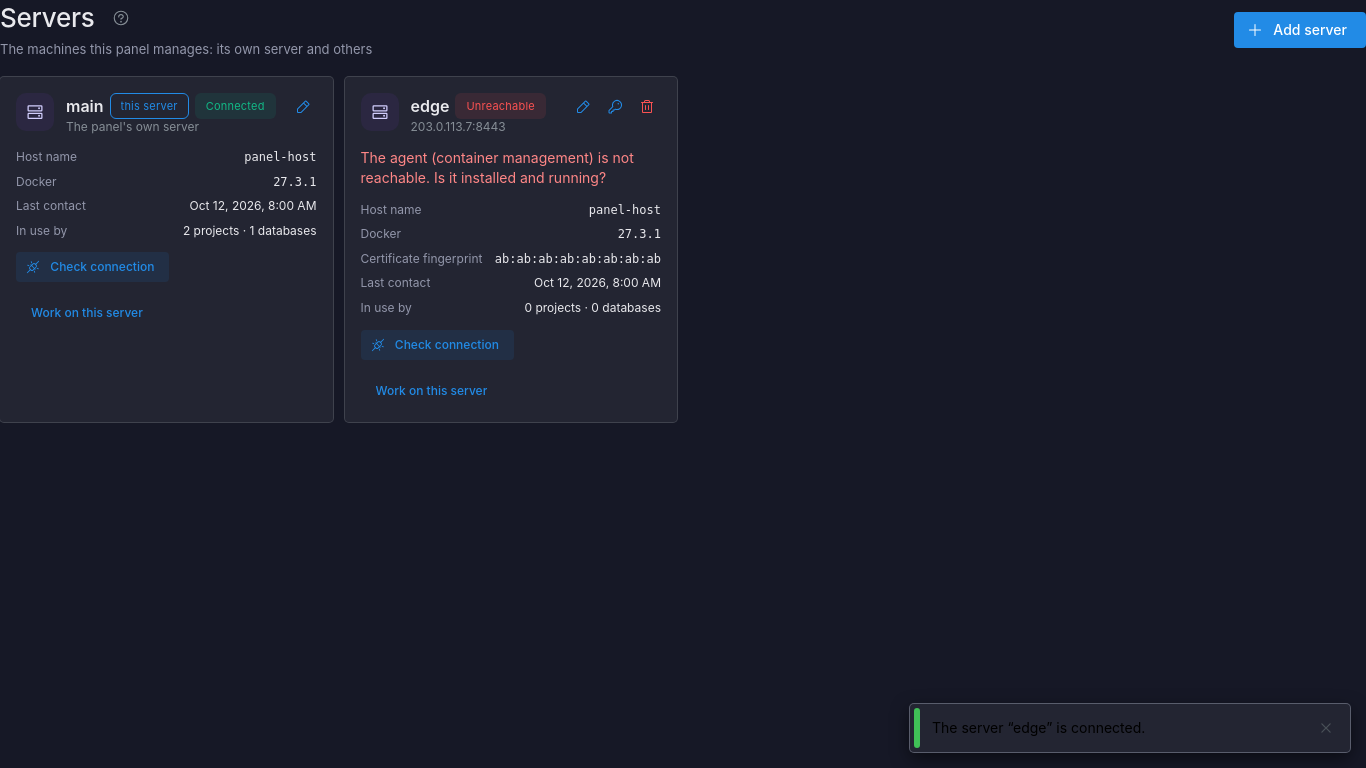
Test case: ServersPage › explains a refused delete
Click the button named "Delete".
click(647, 107)  # box left=633, top=93, right=661, bottom=121
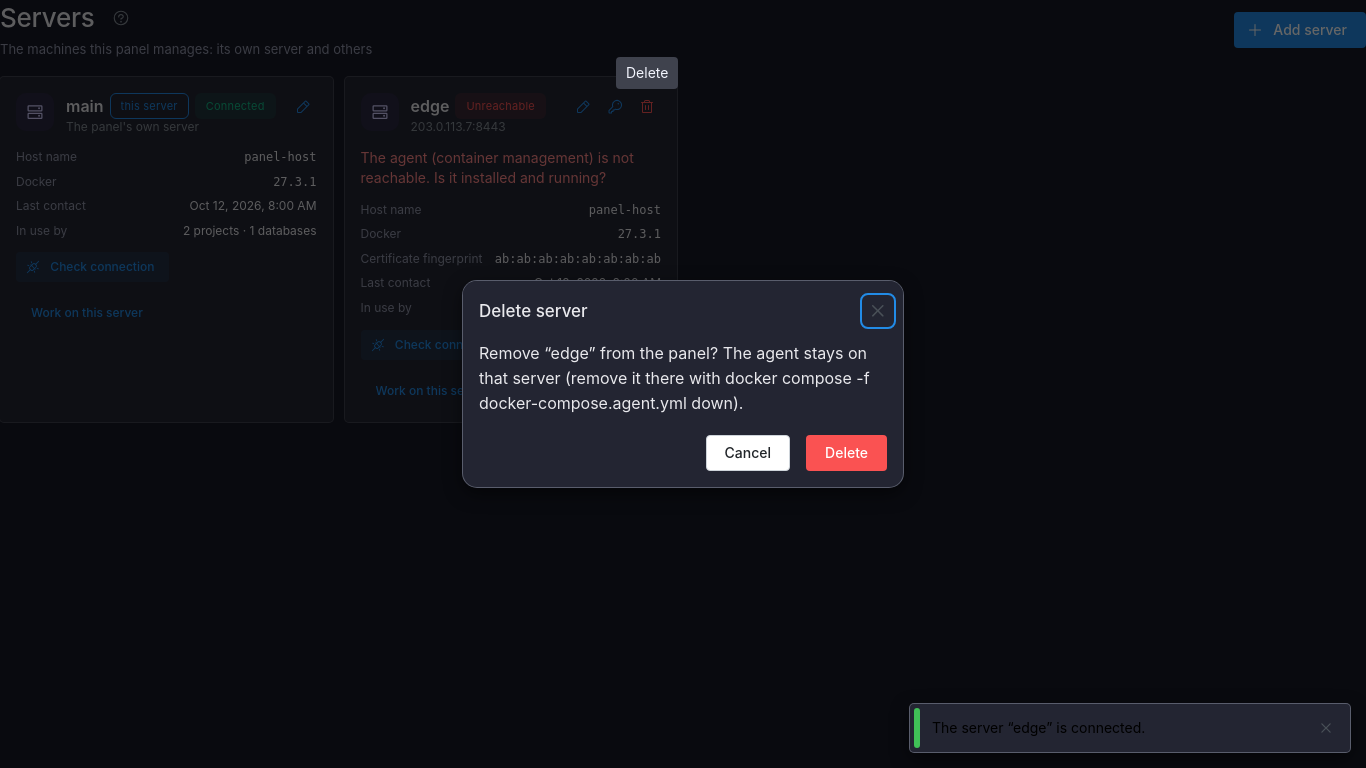
Click the button "Delete".
click(847, 453)  # box left=806, top=435, right=887, bottom=471
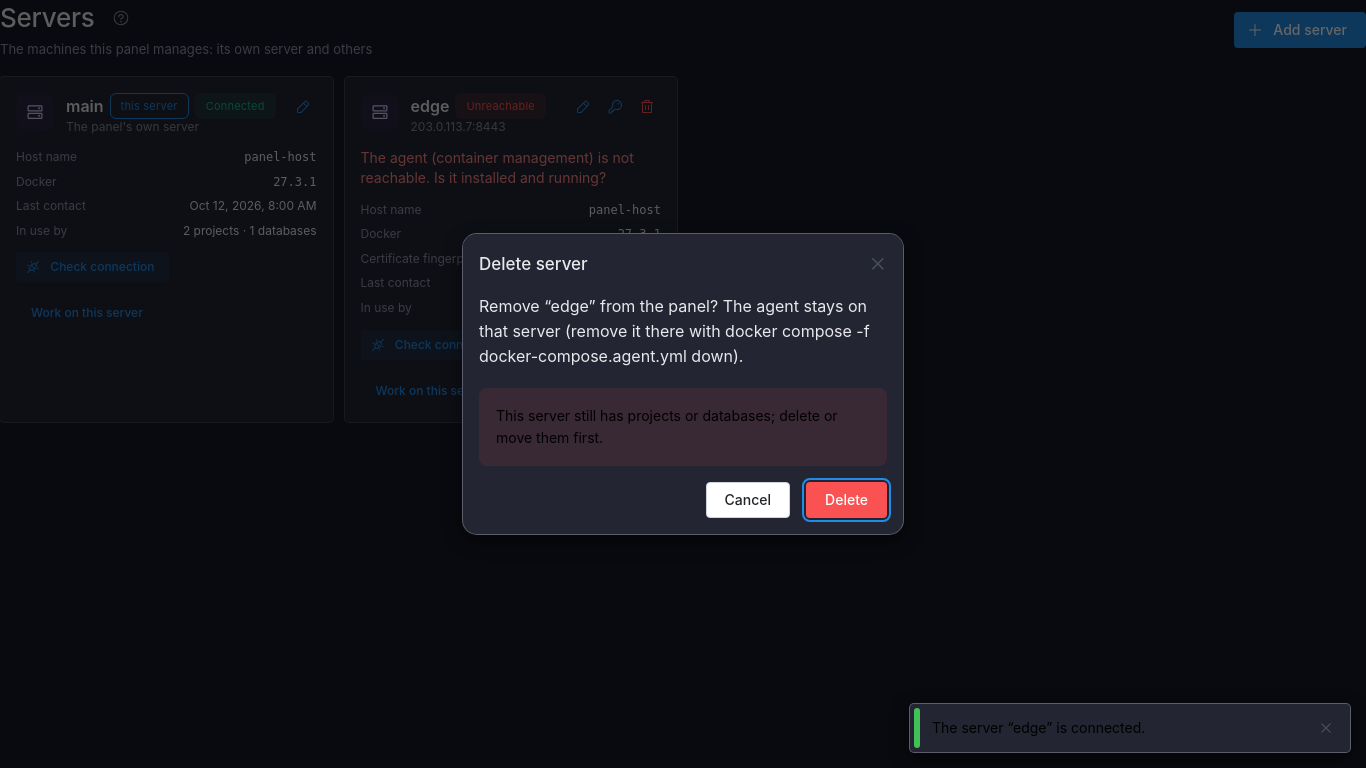
Expected: the text "still has projects or databases" is shown, left=496, top=408, right=838, bottom=446
